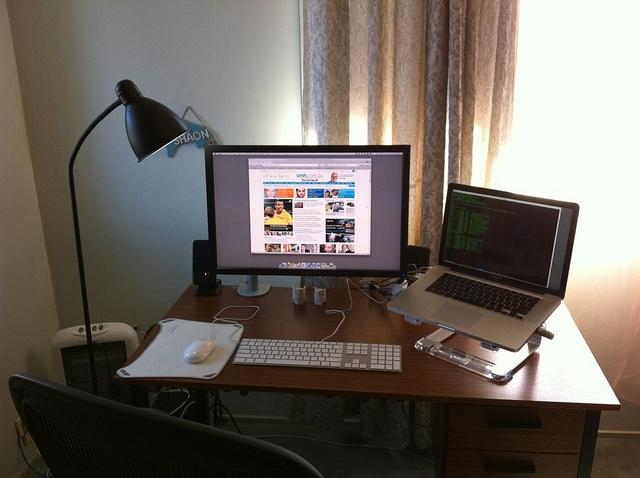AIO PC-Monitor-TV: (204, 143, 410, 278)
Meja: (112, 281, 621, 412)
